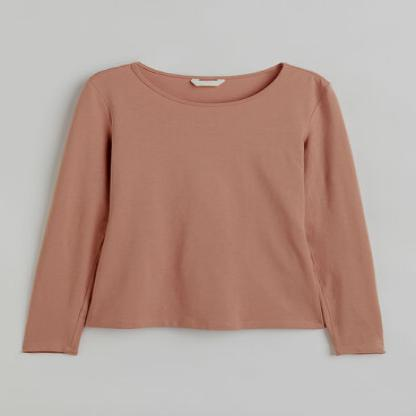dress: (18, 53, 404, 367)
